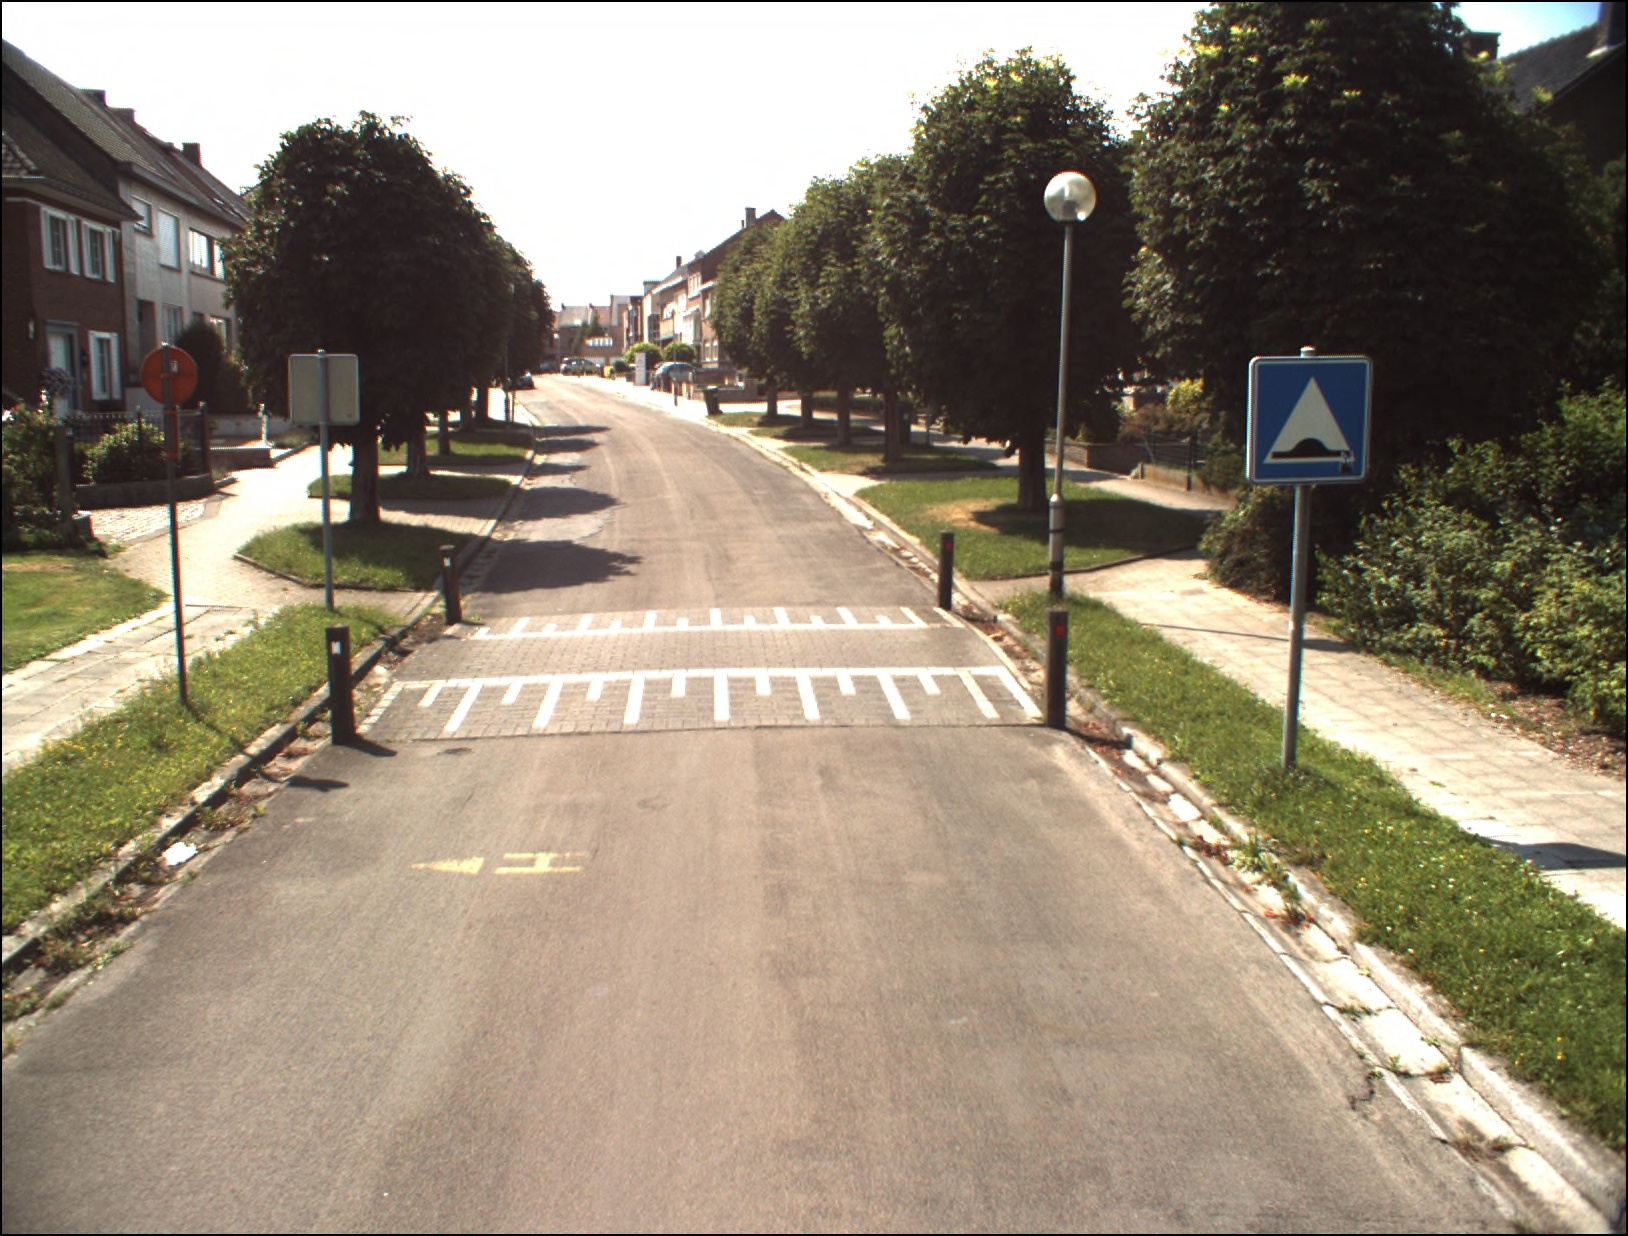speedbump: (1250, 357, 1370, 482)
